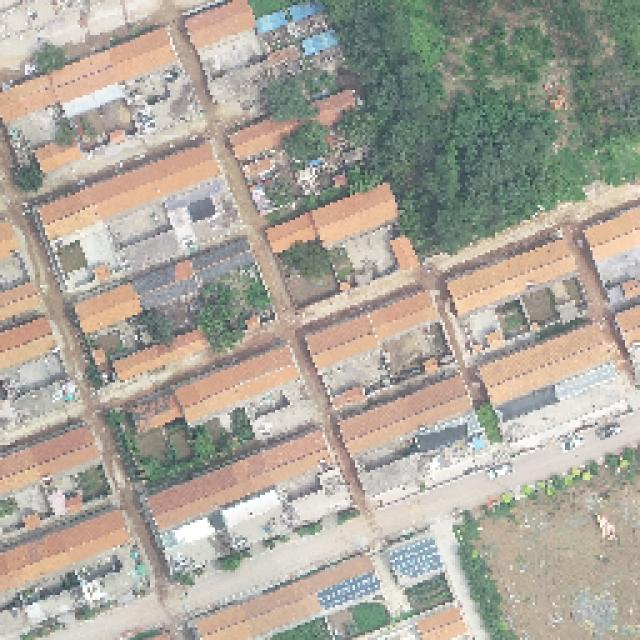Batiment: (151, 432, 329, 529), (39, 147, 216, 238), (0, 31, 174, 122), (196, 559, 371, 640), (483, 325, 611, 406), (1, 512, 130, 592), (343, 378, 469, 454), (449, 242, 574, 316), (309, 294, 433, 368), (178, 349, 297, 423), (269, 186, 399, 252), (2, 431, 98, 494), (114, 329, 209, 381), (185, 0, 255, 48), (75, 284, 141, 333), (232, 119, 305, 159), (585, 208, 640, 261), (0, 318, 55, 369), (615, 305, 640, 384), (132, 394, 182, 433), (418, 608, 468, 640), (0, 282, 40, 321), (312, 90, 355, 126), (35, 141, 81, 172), (171, 209, 198, 253), (302, 30, 339, 54), (0, 222, 19, 259), (289, 5, 325, 22), (258, 13, 287, 34), (333, 389, 365, 408), (621, 279, 640, 299), (485, 329, 505, 348), (422, 358, 436, 373)
